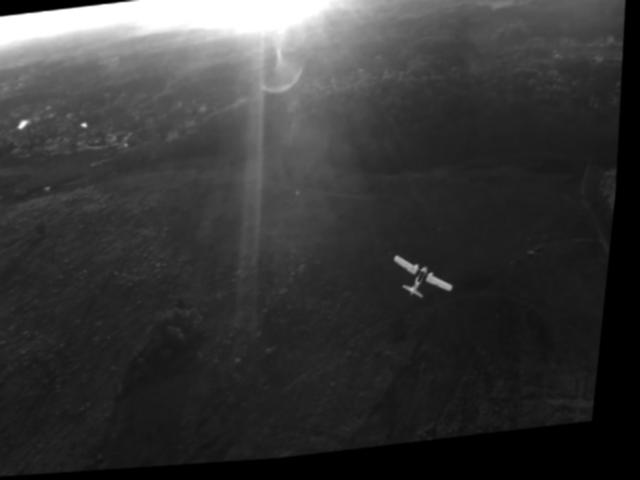hedef: (385, 247, 472, 320)
